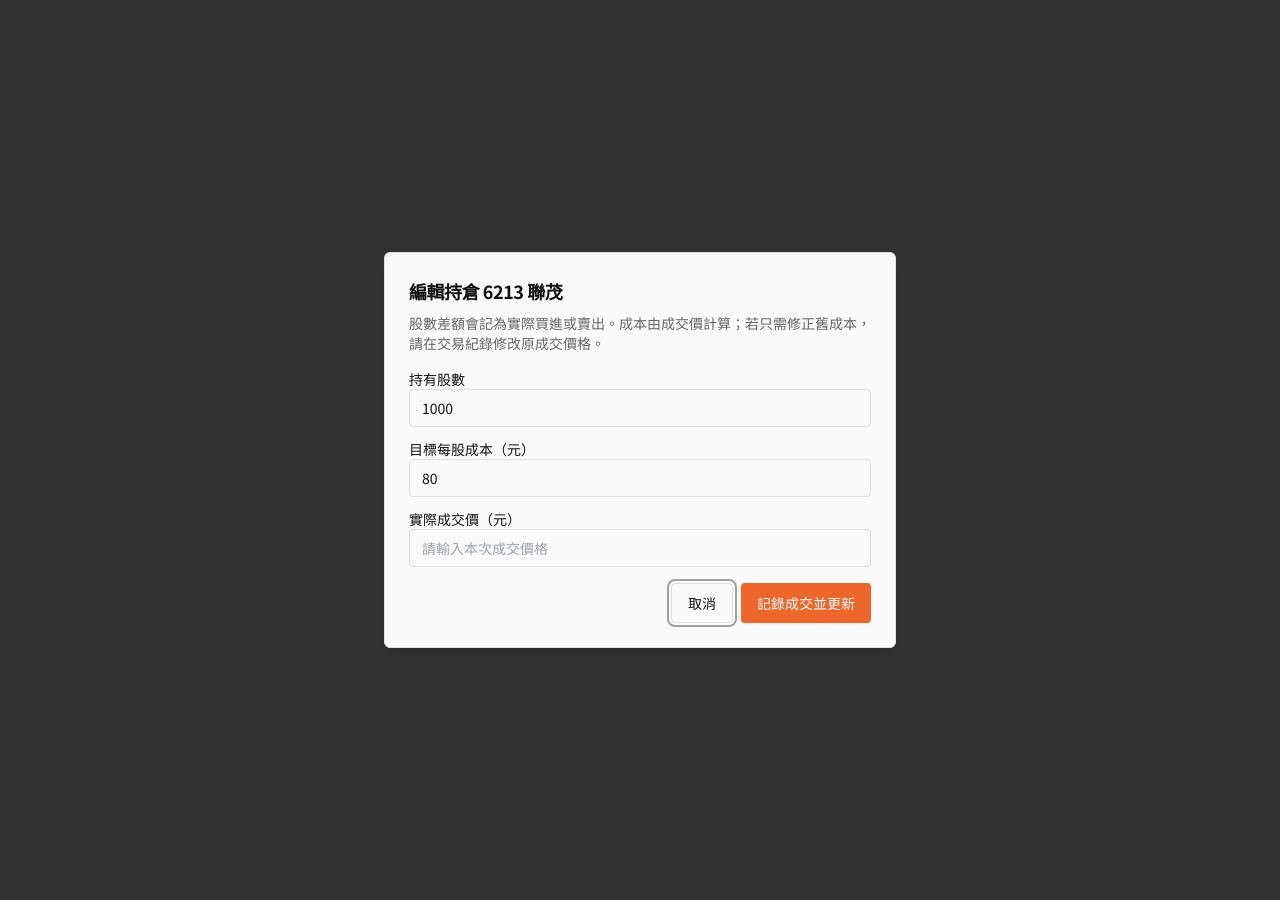
Test: 編輯持倉對話框 › 只改成本無成交時明確阻擋，不能造出買賣紀錄
Replace the text in the number field with test id "holding-edit-cost" with "90" at (640, 478), box [409, 459, 871, 497]
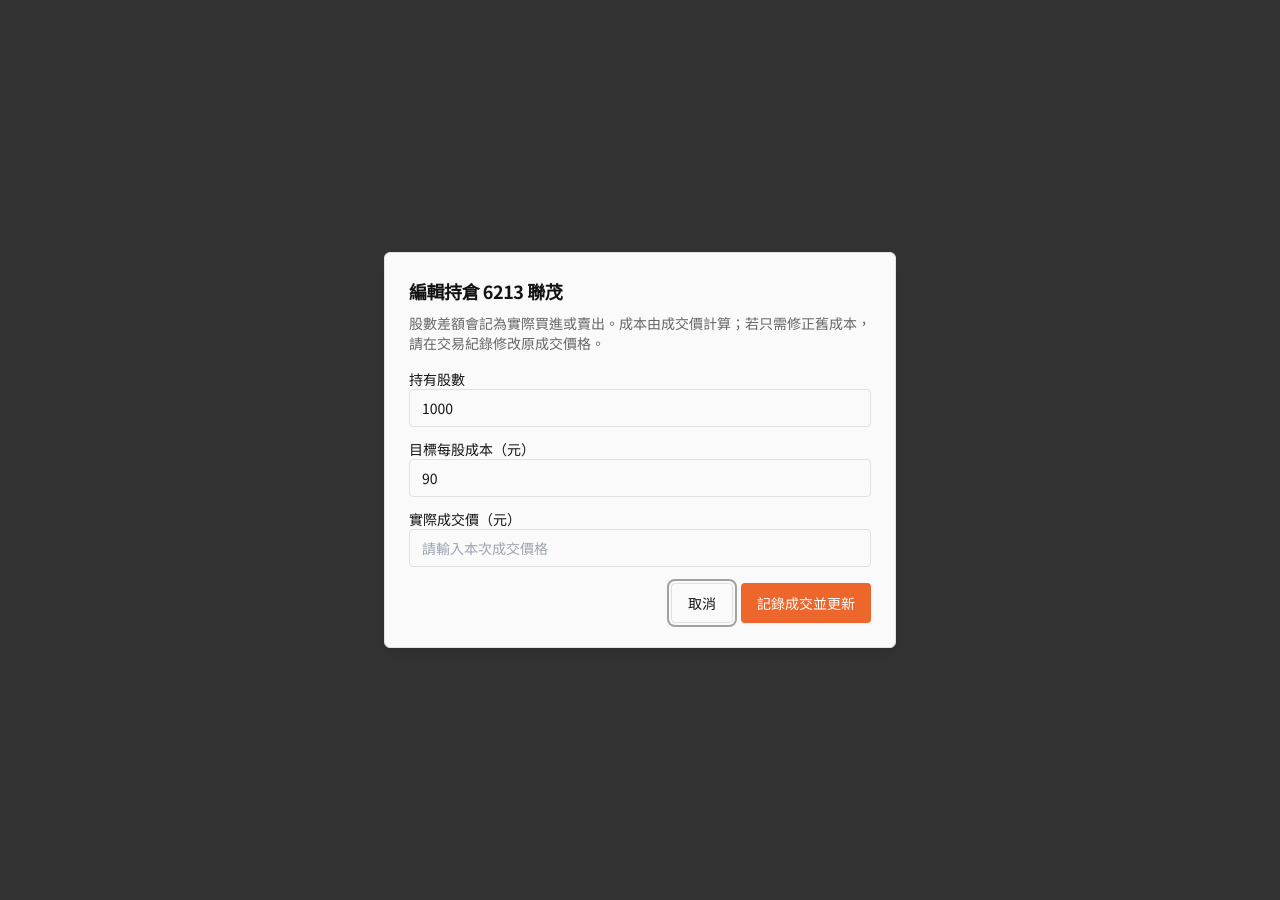
Click the button with test id "holding-edit-submit" at (806, 603), box [741, 583, 871, 623]
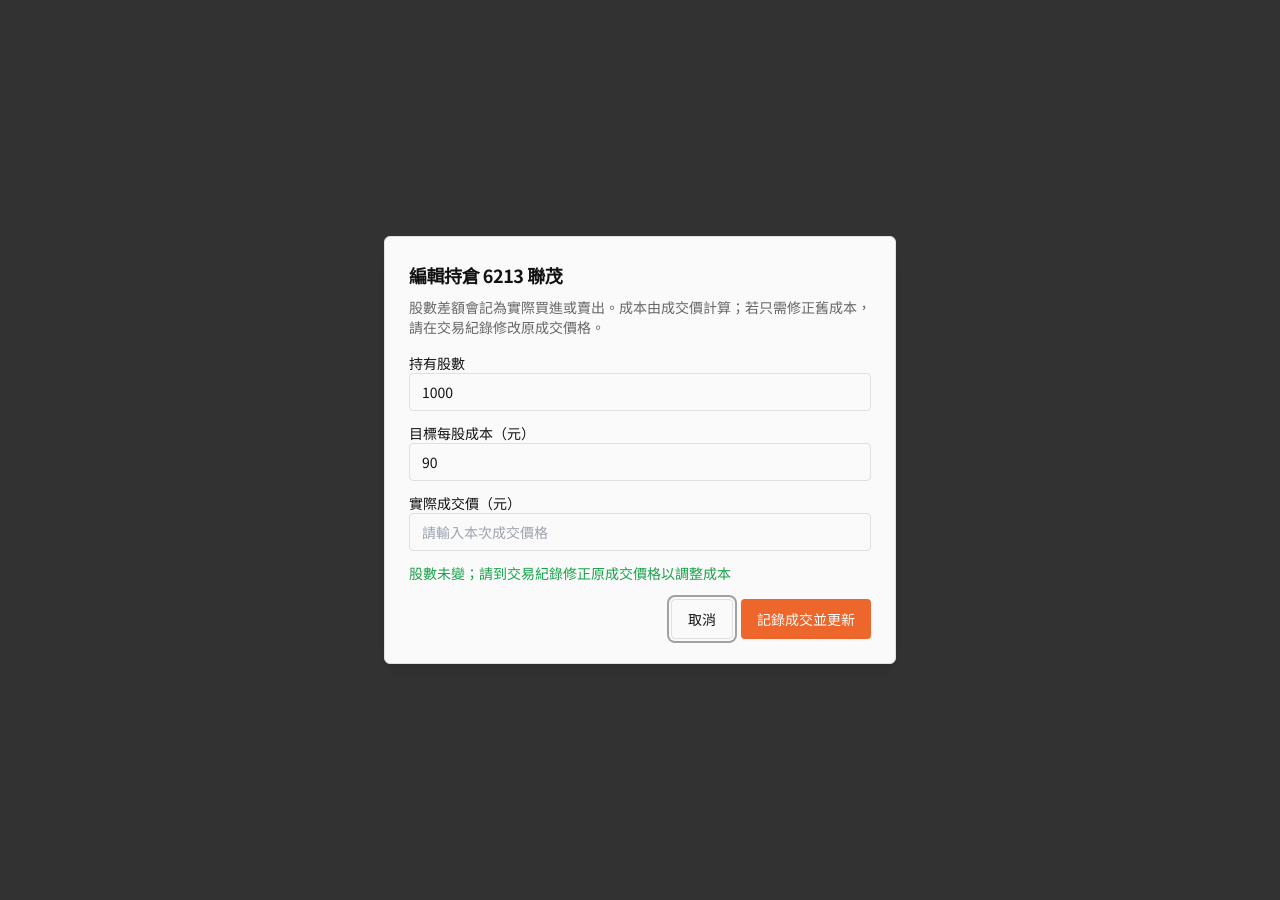
expect the message shows "交易紀錄": met, box [409, 563, 731, 583]
